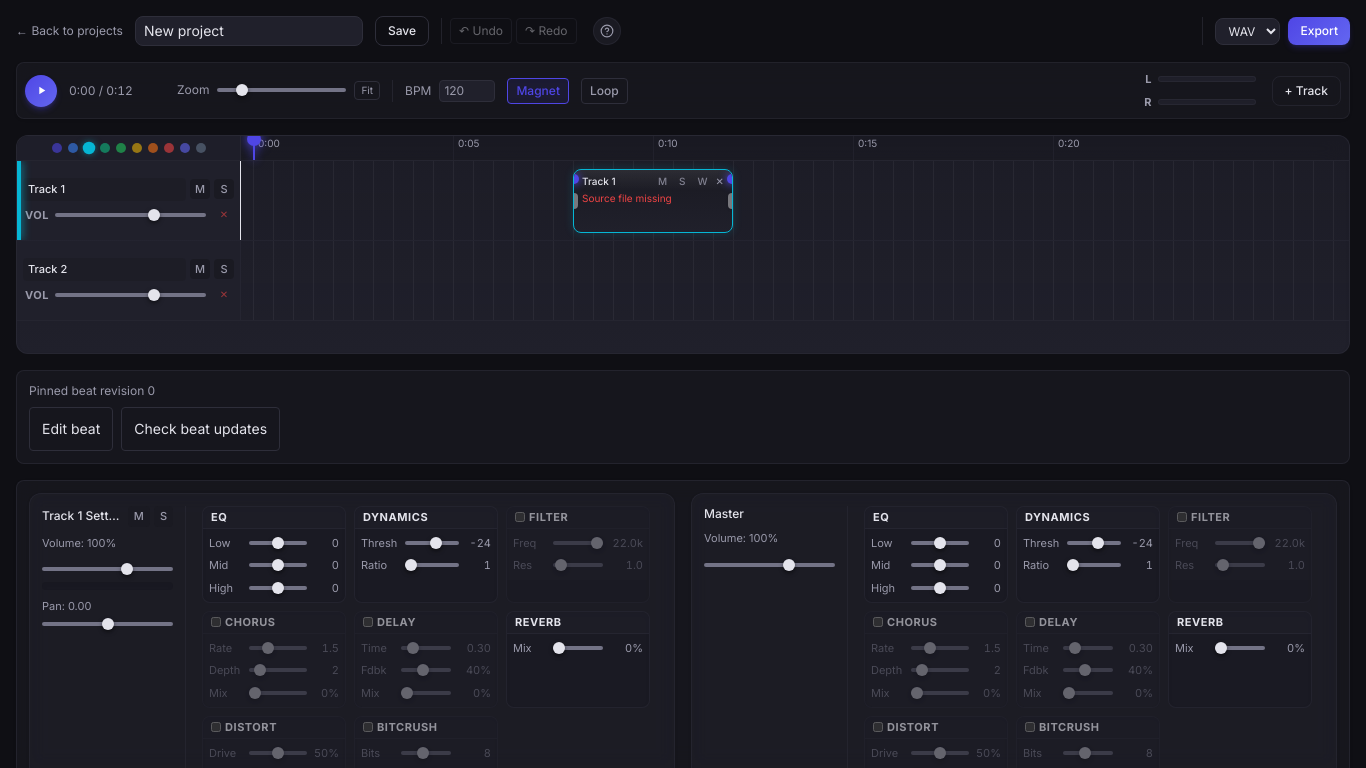
Test: retains existing linked audio when the new render conflicts with its trim
Click the button "Check beat updates".
click(201, 429)  # box [121,407,280,451]
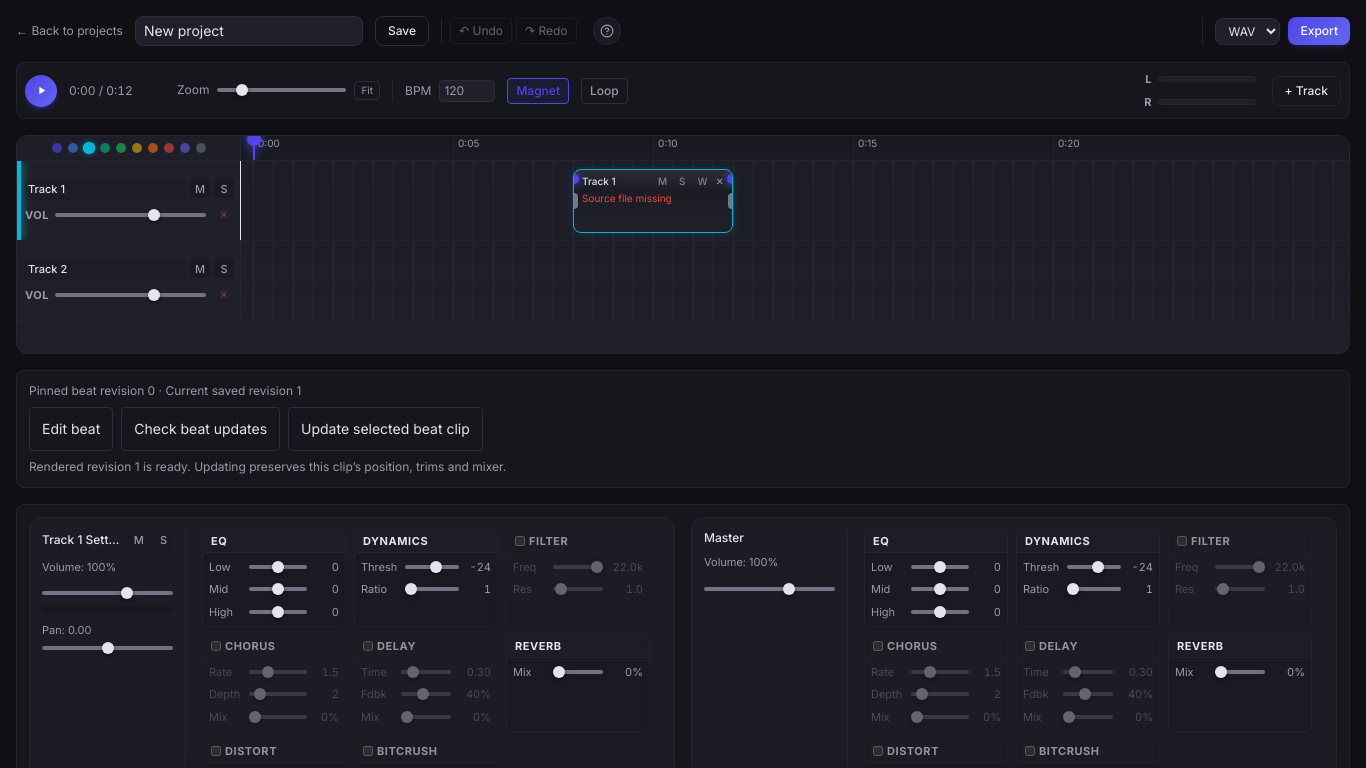
Click the button "Update selected beat clip".
click(385, 429)  # box [288,407,483,451]
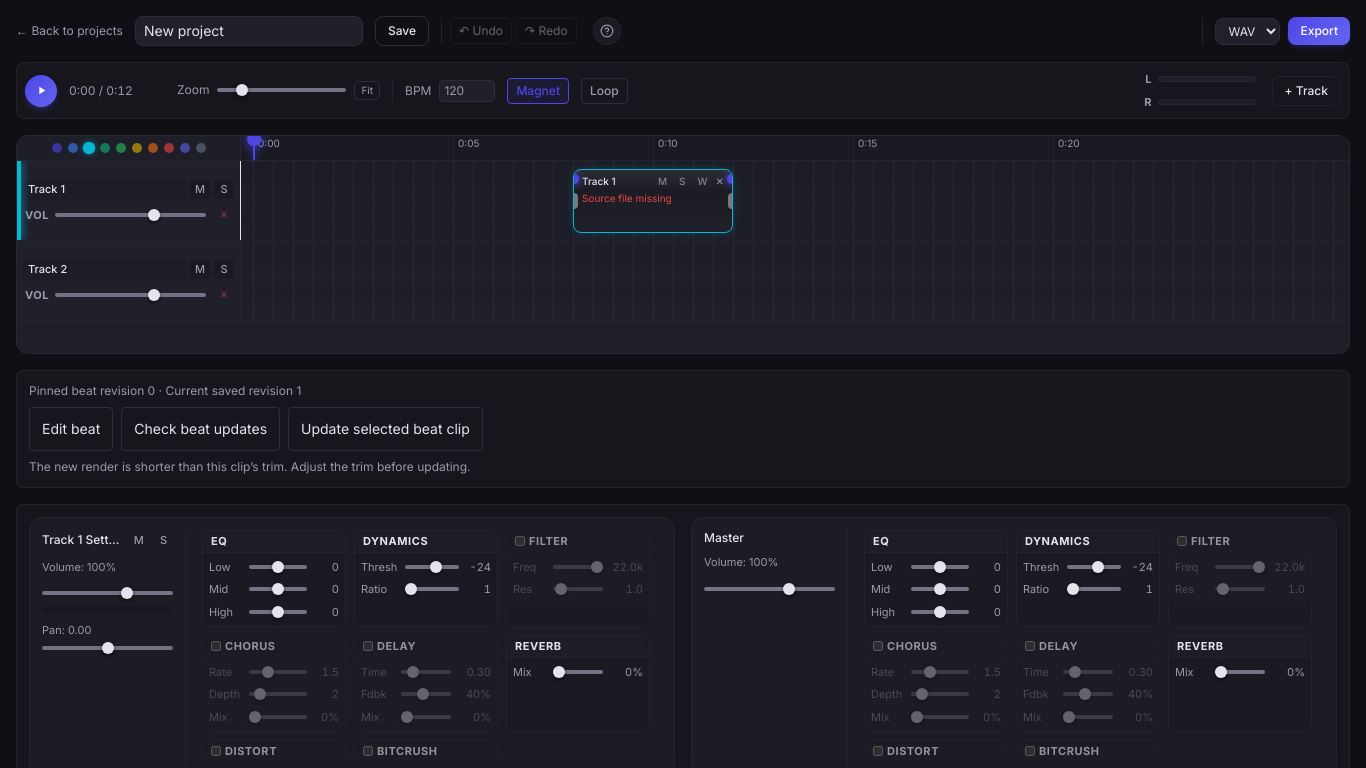
Now the text "new render is shorter" is shown, box [29,459,470,474]
